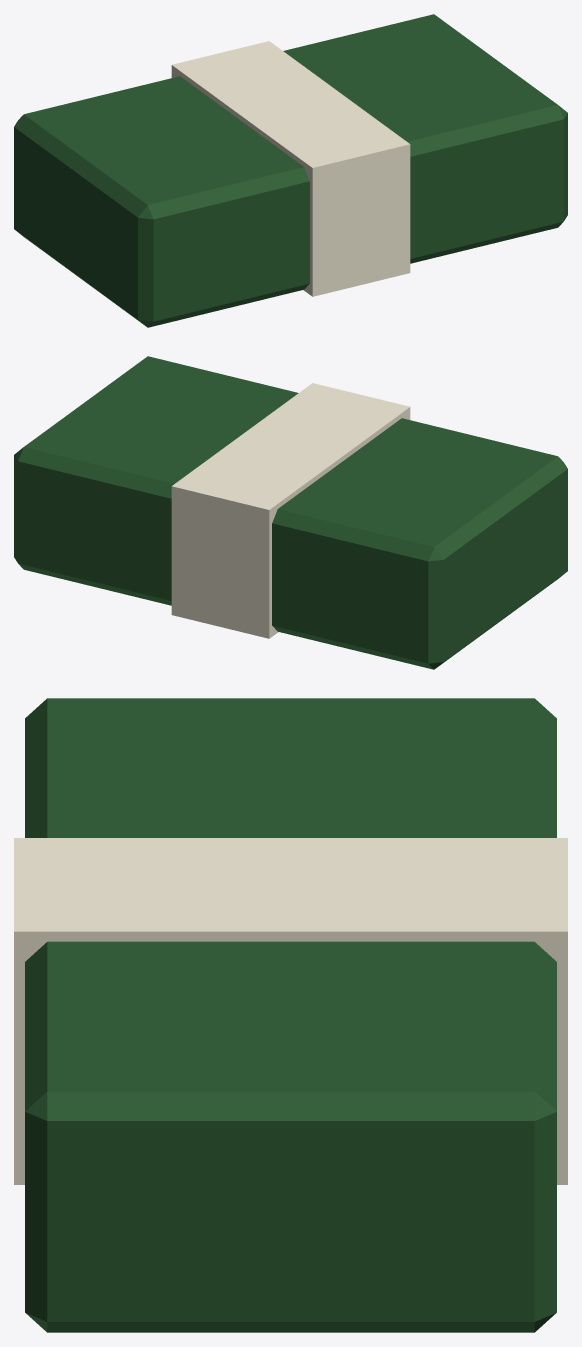
Rendered from loot_cash.glb.
3 views of the same model, one above another, from view 1: azimuth 30°, elevation 25°; view 2: azimuth 150°, elevation 25°; view 3: azimuth 270°, elevation 25° (orthographic). The views are drawn at different scales.
Visible parts, largest first — view 1: LootCash_Stack, LootCash_Band; view 2: LootCash_Stack, LootCash_Band; view 3: LootCash_Stack, LootCash_Band.
Boxes of the visible parts, x1,y1,x2,y2 form: LootCash_Stack: (14, 14, 567, 327); LootCash_Band: (171, 41, 410, 296); LootCash_Stack: (14, 356, 567, 669); LootCash_Band: (171, 383, 410, 638); LootCash_Stack: (25, 698, 556, 1332); LootCash_Band: (14, 838, 567, 1184).
Bounding box in the file's own units: 0.22 × 0.063 × 0.125.
